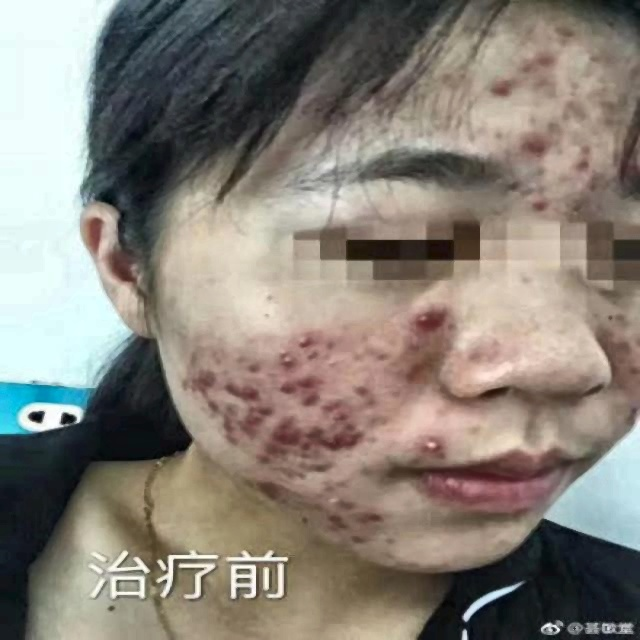papule: (346, 529, 383, 553), (528, 41, 559, 69), (420, 430, 451, 456), (489, 78, 522, 102), (238, 409, 275, 427), (518, 193, 548, 215), (316, 508, 346, 530), (218, 416, 244, 441), (509, 133, 546, 150), (361, 510, 388, 533), (238, 376, 264, 399), (188, 360, 215, 382), (260, 439, 291, 458), (290, 328, 316, 347), (218, 375, 239, 398), (300, 458, 332, 473), (301, 390, 319, 416), (260, 474, 278, 498), (321, 435, 342, 455), (414, 309, 435, 329), (295, 370, 320, 386), (323, 409, 348, 425), (272, 417, 294, 435), (570, 141, 592, 158), (340, 431, 364, 446), (276, 348, 301, 362), (308, 423, 326, 441), (276, 374, 296, 390), (570, 158, 591, 173), (246, 401, 272, 413), (212, 394, 227, 412), (322, 394, 341, 406)
